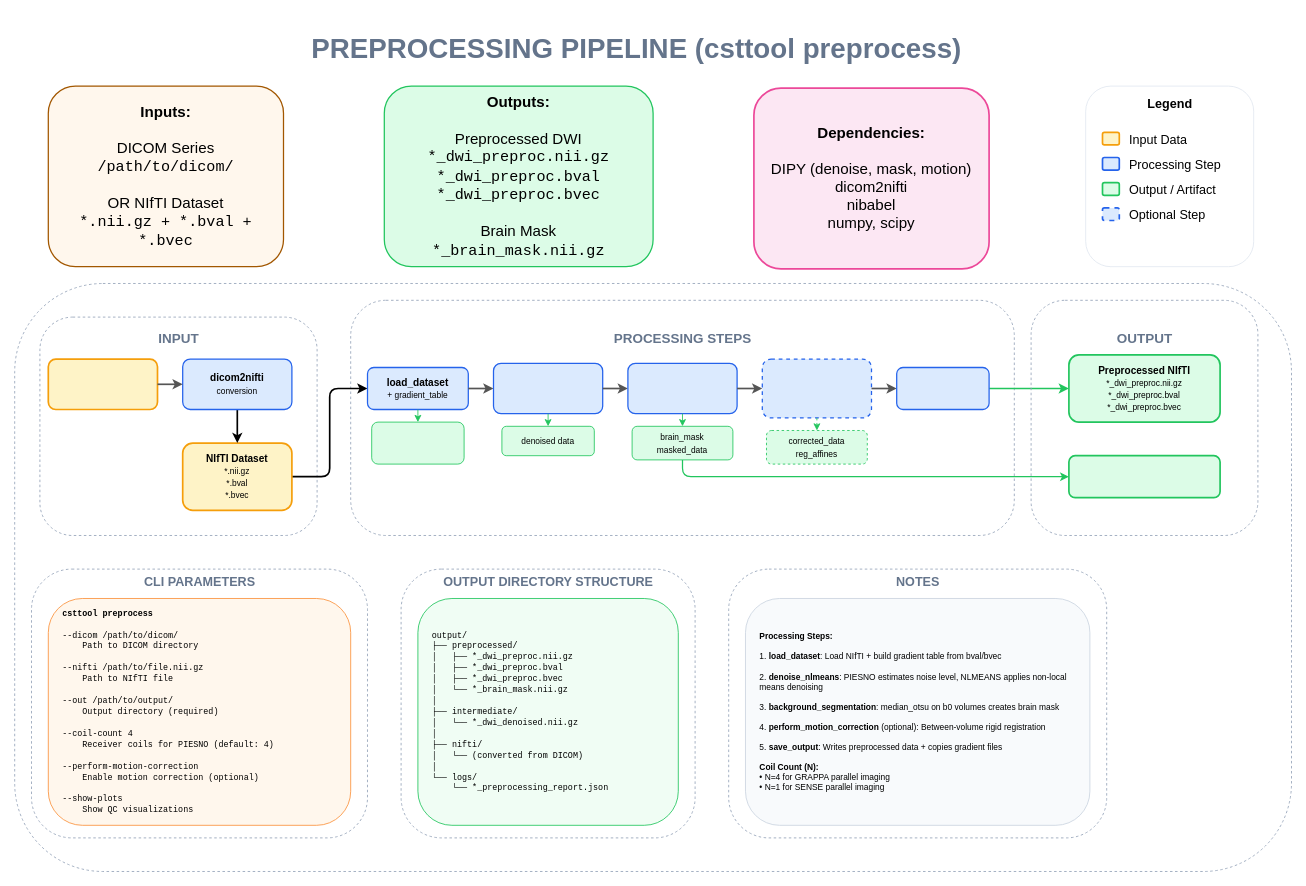
Some shapes in this 1306 by 886 pixel diagram are drawn without their labels. The shapes that lost their labels are listed below. From the top down, each one's box as (x1, y1, x2, y2) in pixels, then its label:
(47, 358, 158, 410): DICOM Series /path/to/dicom/
(492, 362, 603, 414): denoise_nlmeans PIESNO noise est. NLMEANS filter
(627, 362, 737, 414): background_ segmentation median_otsu on b0
(761, 358, 872, 418): perform_motion_ correction (optional) --perform-mc
(896, 366, 989, 410): save_output + copy_gradient_files
(371, 421, 464, 464): data array affine gtab
(1068, 454, 1221, 498): Brain Mask *_brain_mask.nii.gz
